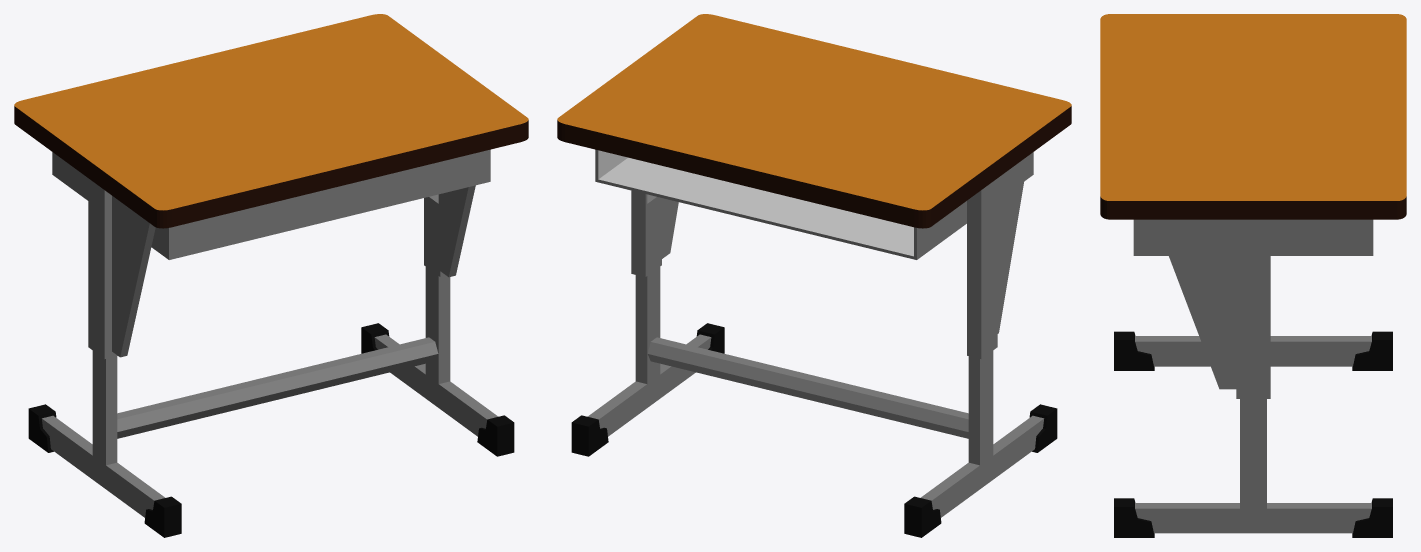
Rendered from SchoolTable.obj.
3 views of the same model, side by side, from view 1: azimuth 30°, elevation 25°; view 2: azimuth 150°, elevation 25°; view 3: azimuth 270°, elevation 25° (orthographic). The views are drawn at different scales.
Parts seen in each view (by area): view 1: TableTop, Box, LegTop, Bar, Foot, LegUnder, FootCover; view 2: TableTop, Box, LegTop, Bar, Foot, LegUnder, FootCover; view 3: TableTop, LegTop, Foot, Box, FootCover, LegUnder.
Boxes of the visible parts, x1=… form: TableTop: x1=14, y1=14, x2=528, y2=228; Box: x1=52, y1=149, x2=490, y2=259; LegTop: x1=88, y1=178, x2=475, y2=358; Bar: x1=117, y1=337, x2=438, y2=438; Foot: x1=41, y1=334, x2=497, y2=517; LegUnder: x1=92, y1=194, x2=450, y2=465; FootCover: x1=28, y1=323, x2=514, y2=537; TableTop: x1=557, y1=14, x2=1071, y2=228; Box: x1=595, y1=149, x2=1033, y2=259; LegTop: x1=631, y1=156, x2=1028, y2=358; Bar: x1=647, y1=337, x2=968, y2=438; Foot: x1=588, y1=334, x2=1044, y2=517; LegUnder: x1=635, y1=194, x2=993, y2=465; FootCover: x1=571, y1=323, x2=1057, y2=537; TableTop: x1=1100, y1=14, x2=1406, y2=219; LegTop: x1=1155, y1=219, x2=1270, y2=398; Foot: x1=1135, y1=336, x2=1371, y2=533; Box: x1=1133, y1=219, x2=1373, y2=255; FootCover: x1=1114, y1=331, x2=1392, y2=537; LegUnder: x1=1240, y1=399, x2=1266, y2=508.
Bounding box in the file's own units: 130 × 111 × 90.
